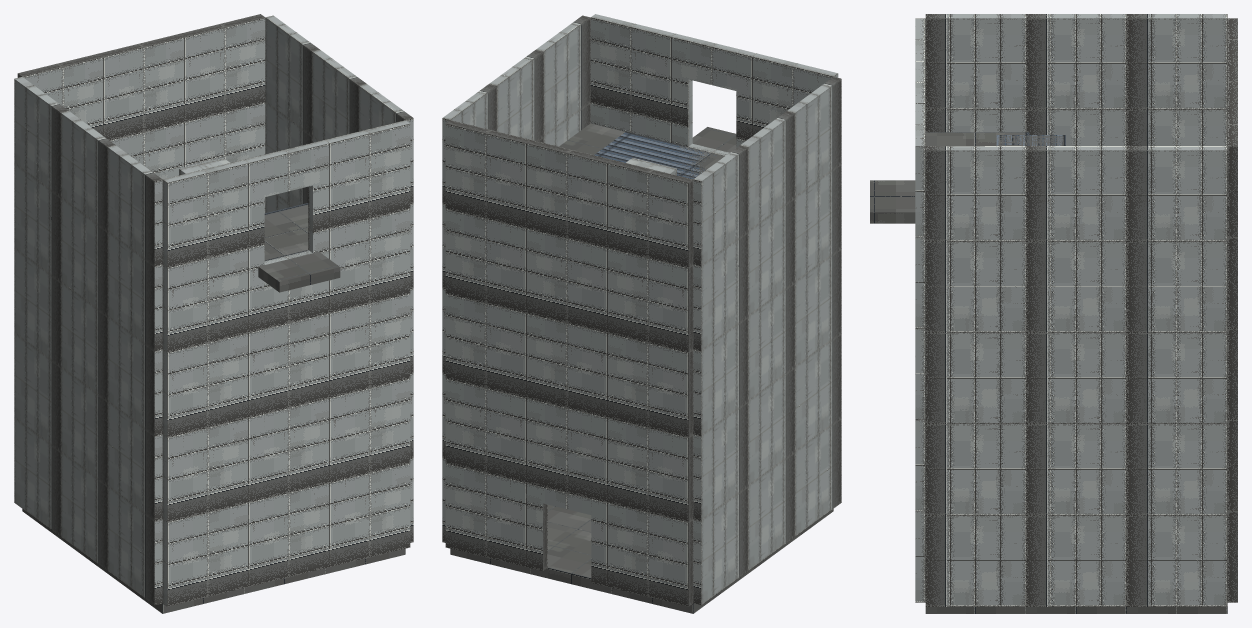
File: shell_tower_gantry.glb
The picture shows the model from 3 angles, left to right: view 1: azimuth 30°, elevation 25°; view 2: azimuth 150°, elevation 25°; view 3: azimuth 270°, elevation 25°; orthographic projection. The views are drawn at different scales.
Parts seen in each view (by area): view 1: shell_tower_gantry; view 2: shell_tower_gantry; view 3: shell_tower_gantry.
Part boxes in pixels (x1,y1,x2,y2): shell_tower_gantry: (14, 14, 413, 613); shell_tower_gantry: (442, 14, 841, 613); shell_tower_gantry: (870, 14, 1237, 613).
Size of what is drawn, in the model's own units: 12.8 by 20.5 by 14.6.
71 materials, 71 textured.
